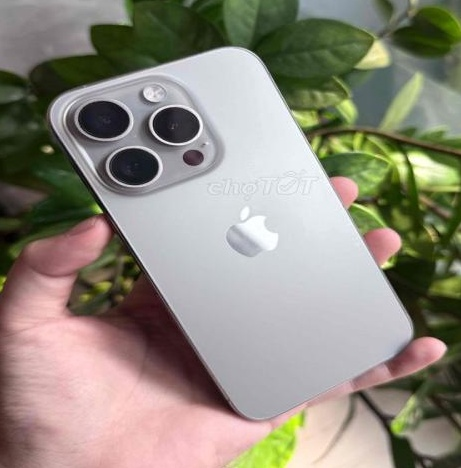scratch: (131, 131, 140, 139)
